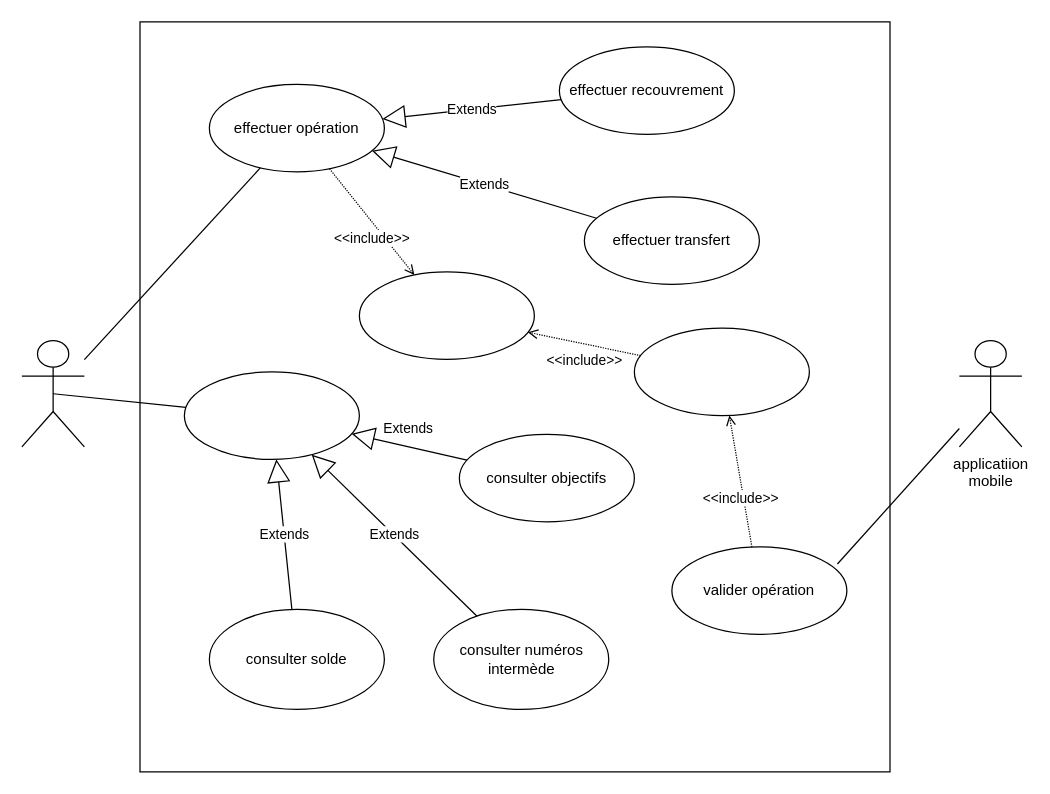
The diagram is 1050 pixels wide and 794 high, and some of its shapes have lost their labels. Here are the shapes that lost their labels. From the top down, the box of each, then its label:
(358, 271, 534, 359): s'authentifer
(633, 327, 809, 416): récupérer message opération
(21, 339, 84, 447): agent
(183, 371, 359, 459): lister intermèdes
